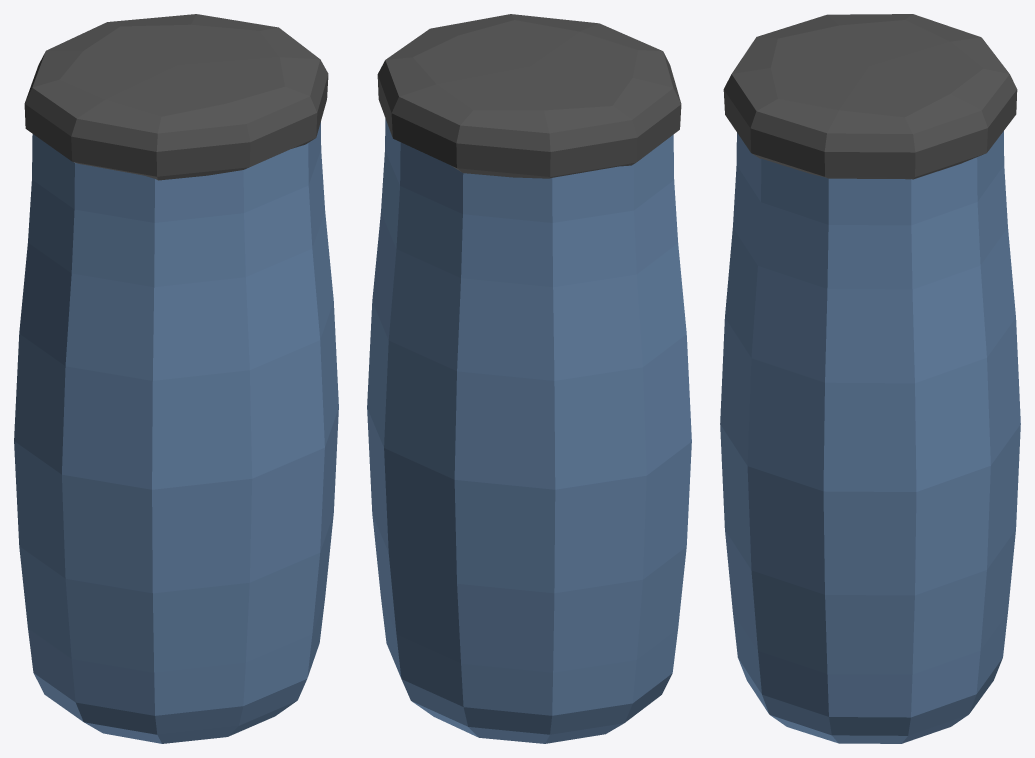
Rendered from Barel.fbx.
3 renders of one model, left to right at view 1: azimuth 30°, elevation 25°; view 2: azimuth 150°, elevation 25°; view 3: azimuth 270°, elevation 25°, orthographic.
Visible parts, largest first — view 1: Barel; view 2: Barel; view 3: Barel.
Part boxes in pixels (x1,y1,x2,y2): Barel: (14, 14, 338, 743); Barel: (367, 14, 691, 743); Barel: (720, 14, 1020, 743).
Size of the model in its own units: 242 by 540 by 225.
